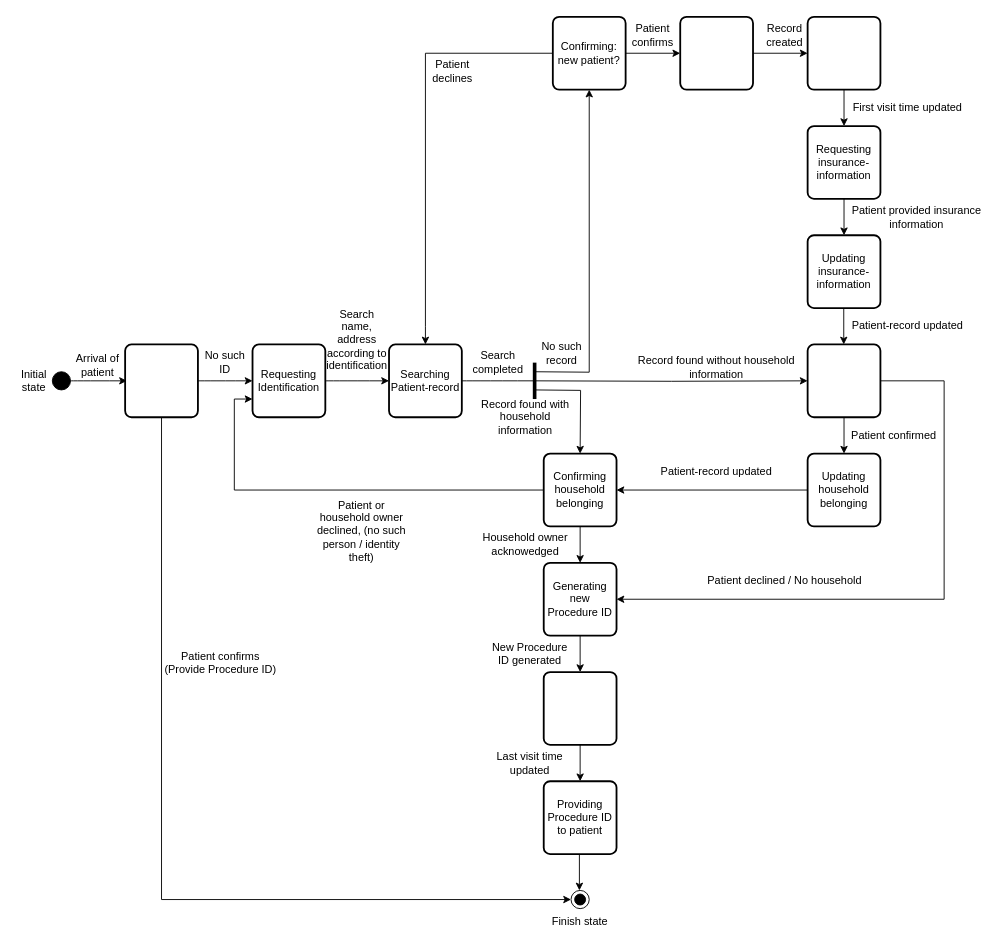
The diagram is 1005 pixels wide and 944 high, and some of its shapes have lost their labels. The centre of each missing label's shape, as x and y in pixels:
"Creating new patient record" belongs at pixel 716 52.
"Requesting household belonging" belongs at pixel 843 380.
"Requesting Procedure ID" belongs at pixel 161 380.
"Updating first visit time" belongs at pixel 843 52.
"Updating last visit time" belongs at pixel 579 708.
